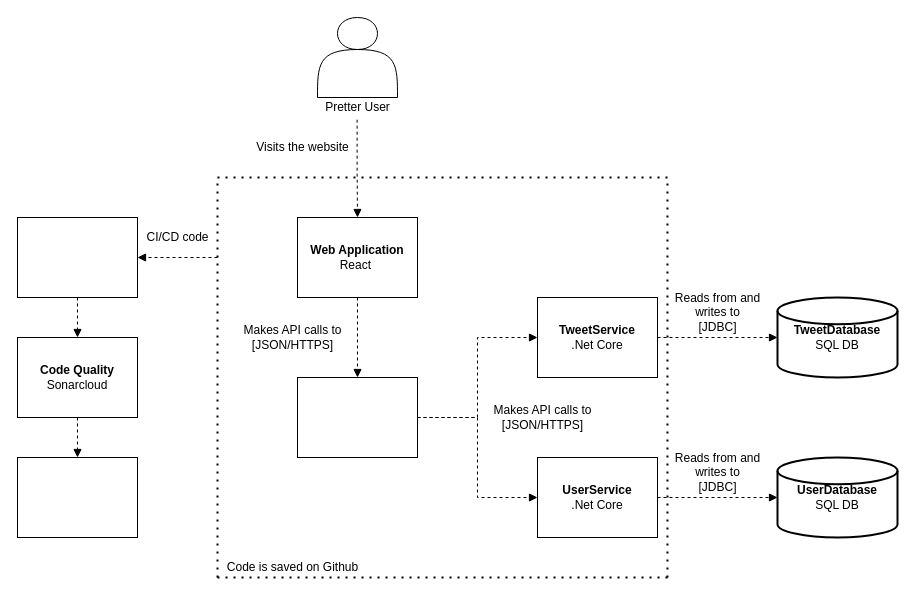
Some shapes in this 916 by 597 pixel diagram are drawn without their labels. The box of each missing label's shape, as (x1, y1, x2, y2) in pixels:
API Gateway .Net Core: (296, 376, 418, 458)
CD Docker: (16, 456, 138, 538)
CI Github: (16, 216, 138, 298)
